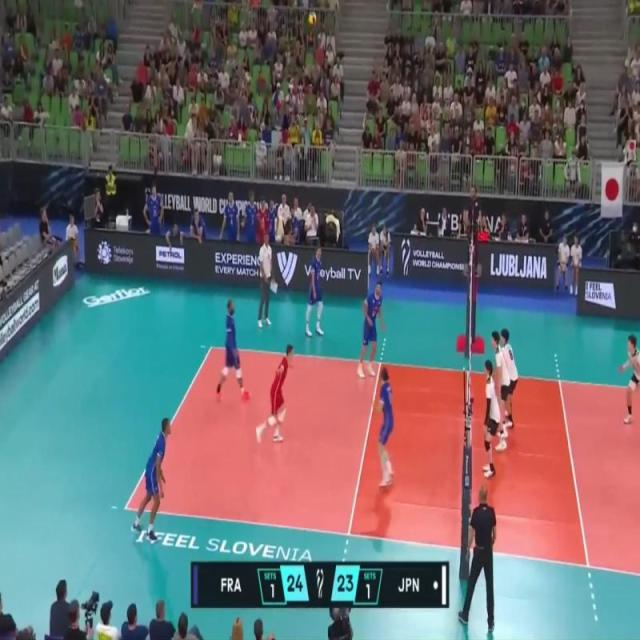volleyball: (308, 10, 317, 27)
